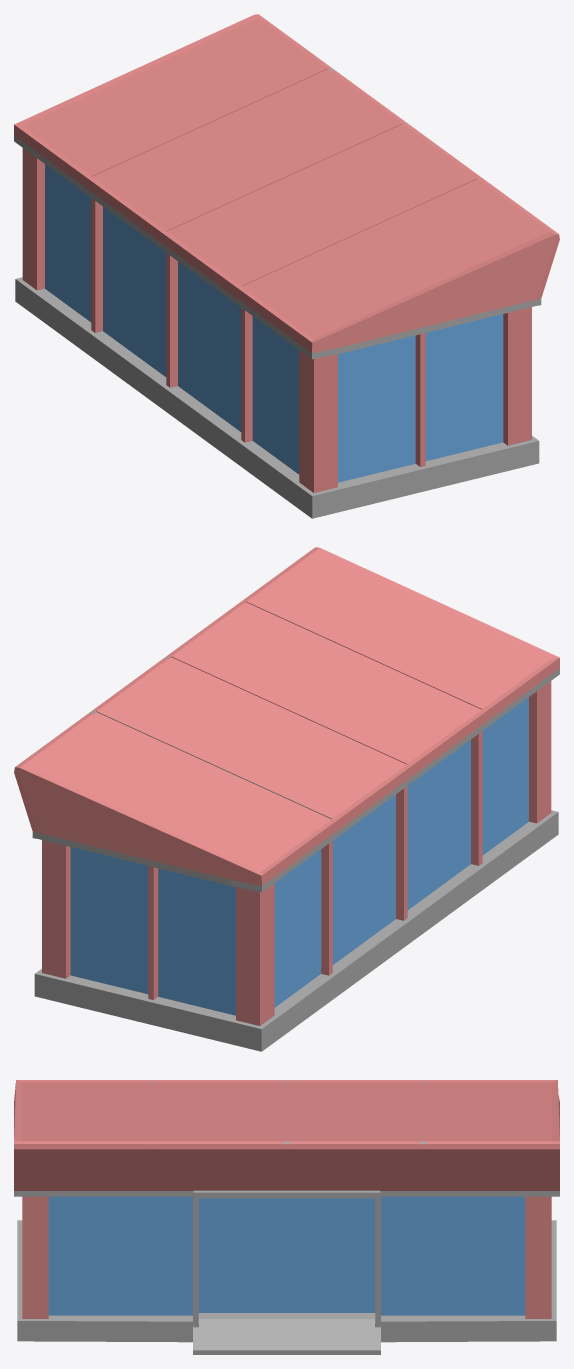
The model's file is building_1x2_0_g_red.glb.
The picture shows the model from 3 angles, top to bottom: view 1: azimuth 30°, elevation 25°; view 2: azimuth 150°, elevation 25°; view 3: azimuth 270°, elevation 25°; orthographic projection. The views are drawn at different scales.
Parts seen in each view (by area): view 1: Cube.001; view 2: Cube.001; view 3: Cube.001.
Boxes of the visible parts, x1,y1,x2,y2 form: Cube.001: (14,14,559,518); Cube.001: (14,547,559,1051); Cube.001: (14,1080,559,1354).
Size of the model in its own units: 1.92 by 1.61 by 3.88.
